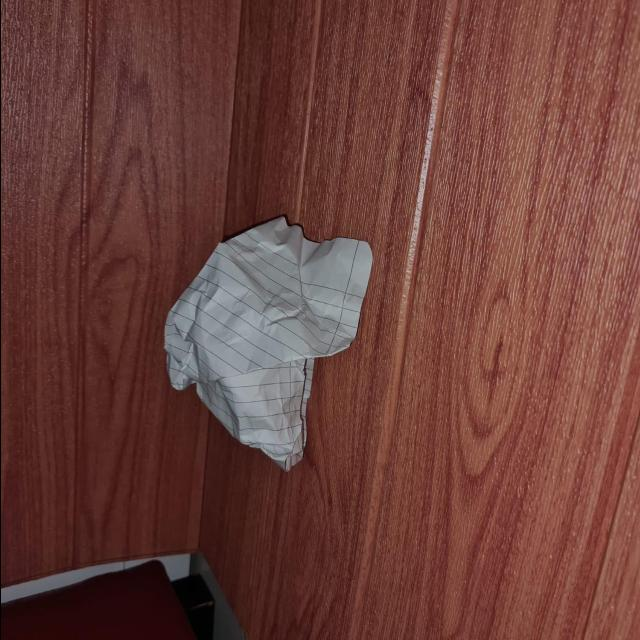kertas: (157, 219, 366, 472)
